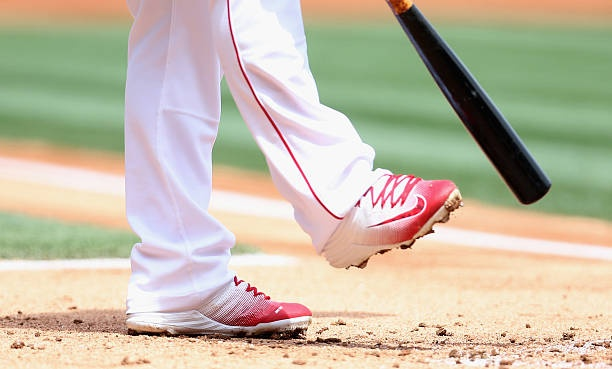bita: (383, 1, 552, 200)
